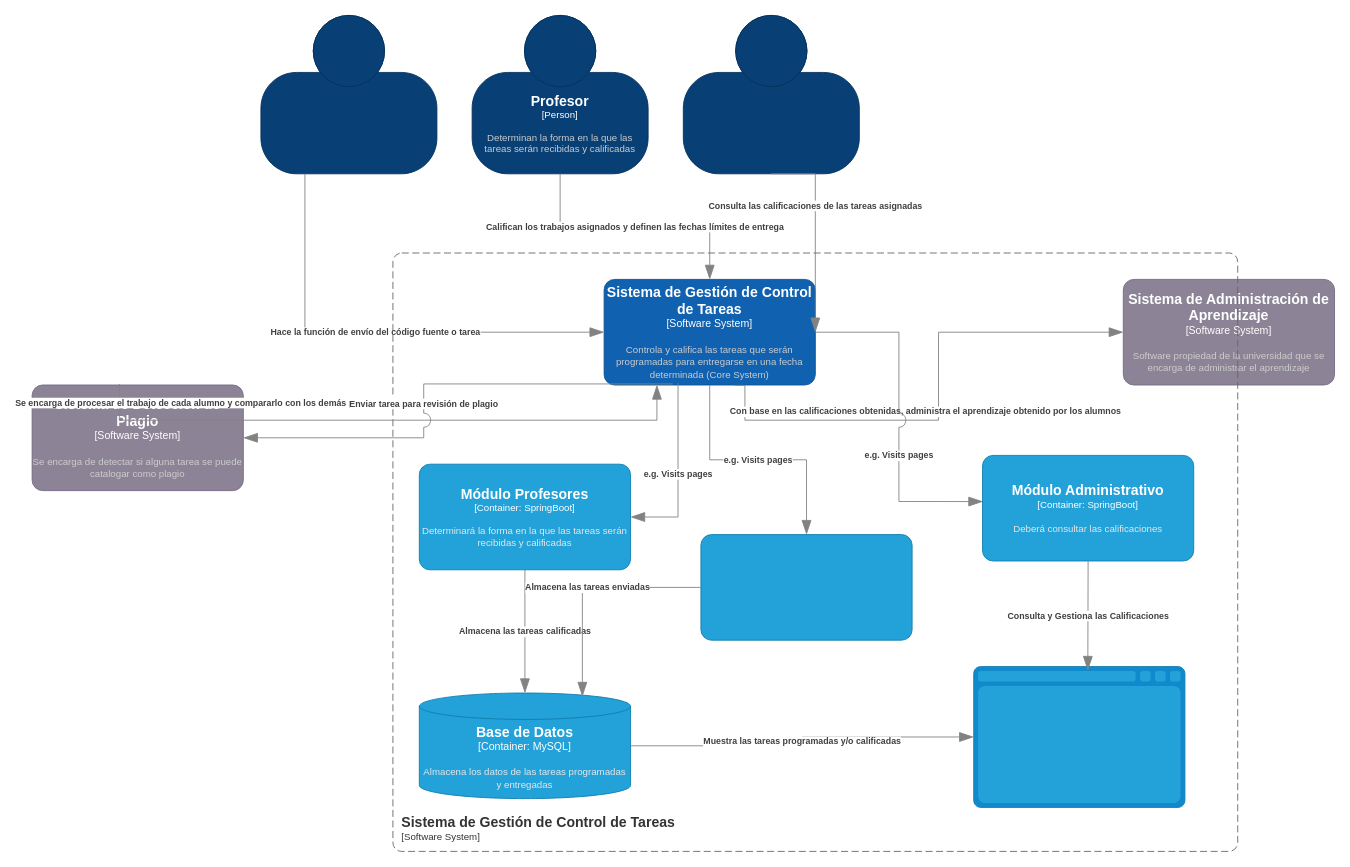
Some shapes in this 1350 by 867 pixel diagram are drawn without their labels. Here are the shapes that lost their labels. From the top down, the centre of each, then its label:
At point (348, 94): "Estudiante [Person] Persona que deberá subir su código fuente o tarea".
At point (770, 94): "Administrativo [Person] Persona que puede consultar las calificaciones".
At point (806, 587): "Módulo Estudiante [Container: SpringBoot] Deberá subir su código fuente o tarea".
At point (1079, 736): "App Web [Container: React js] Se mostrarán las pantallas de los Usuario".
